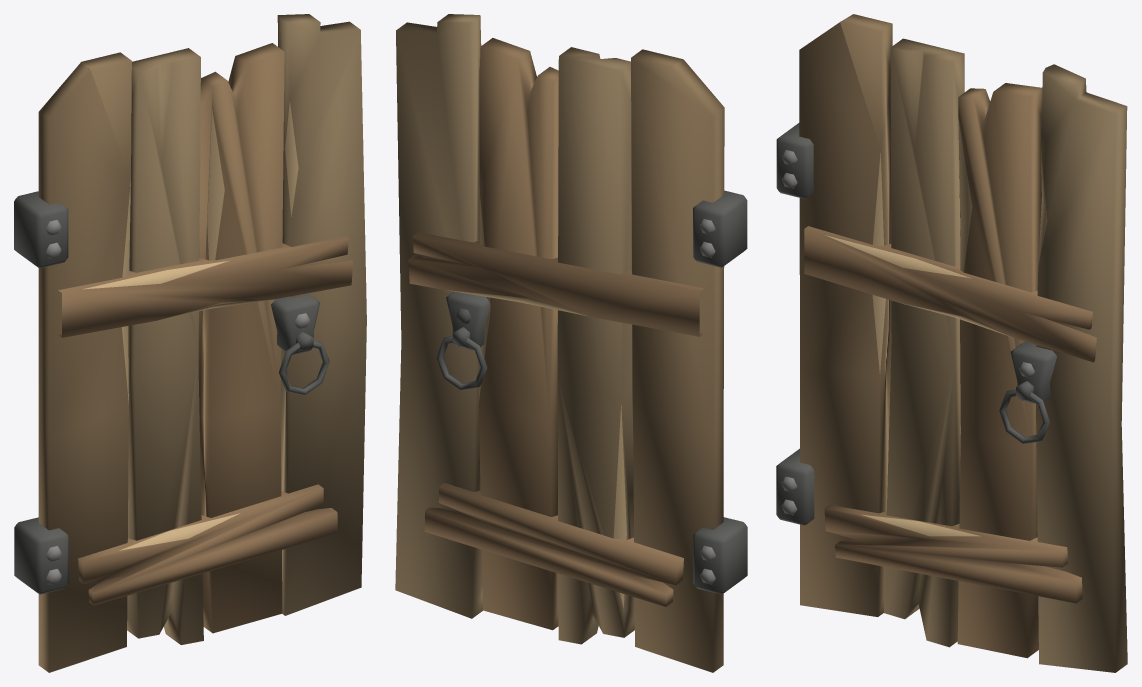
The model's file is rpgpp_ag_door_07a.fbx.
The picture shows the model from 3 angles, left to right: view 1: azimuth 30°, elevation 25°; view 2: azimuth 150°, elevation 25°; view 3: azimuth 330°, elevation 25°; orthographic projection.
Parts seen in each view (by area): view 1: rpgpp_ag_door_07a; view 2: rpgpp_ag_door_07a; view 3: rpgpp_ag_door_07a.
Part boxes in pixels (left/top/right/bottom): rpgpp_ag_door_07a: left=14, top=14, right=366, bottom=672; rpgpp_ag_door_07a: left=395, top=14, right=747, bottom=672; rpgpp_ag_door_07a: left=776, top=14, right=1127, bottom=672.
Bounding box in the file's own units: 1.37 × 2.35 × 0.299.
